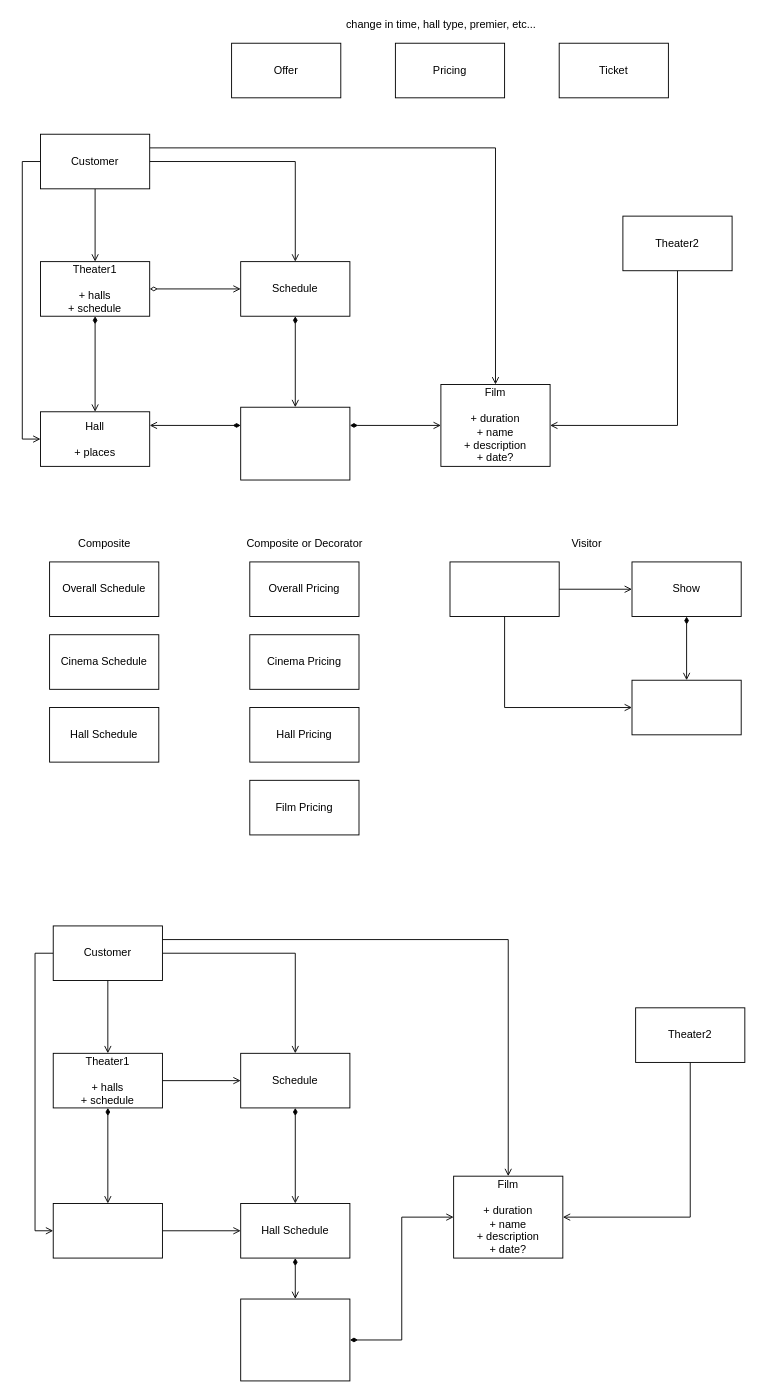
Image size: 761x1397. Some labels were removed from this diagram. Here are the shapes that lost their labels. From the top down, the centre of each, then its label:
At point 295,443: "Show + film + time + hall".
At point 504,589: "<< visitor >> Pricing".
At point 686,707: "Hall".
At point 107,1230: "<< cloneable >> Hall + places".
At point 295,1339: "<< cloneable >> Show + film + time + price ?".
